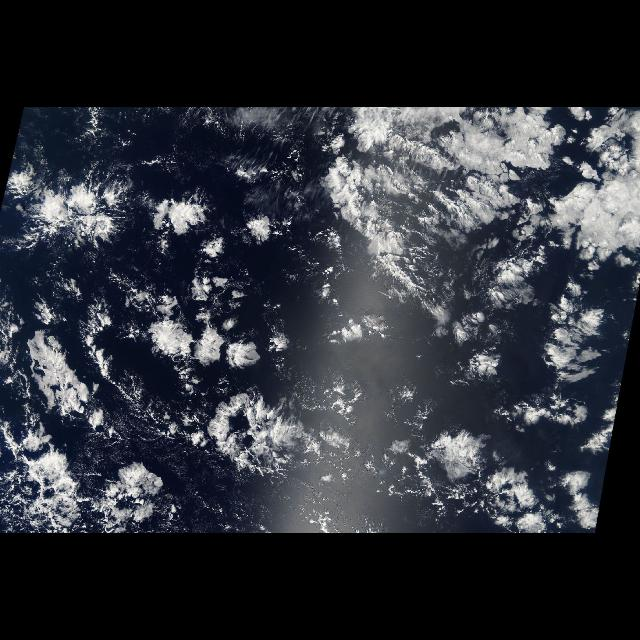Flower: (1, 160, 322, 478), (444, 263, 606, 533)
